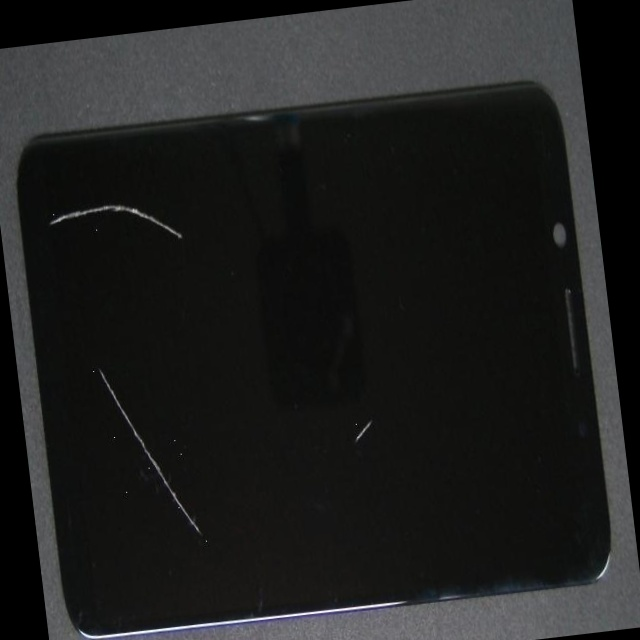scratch: (166, 215, 538, 640), (32, 211, 136, 561), (0, 124, 137, 363)
